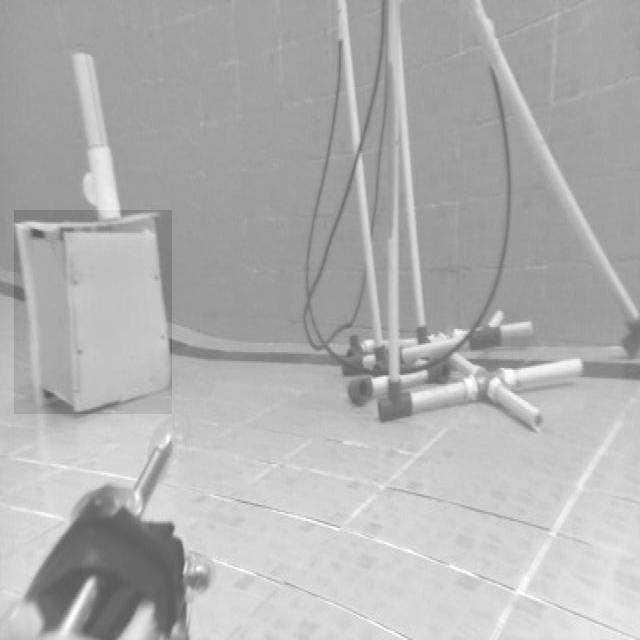Cube: (14, 210, 172, 414)
